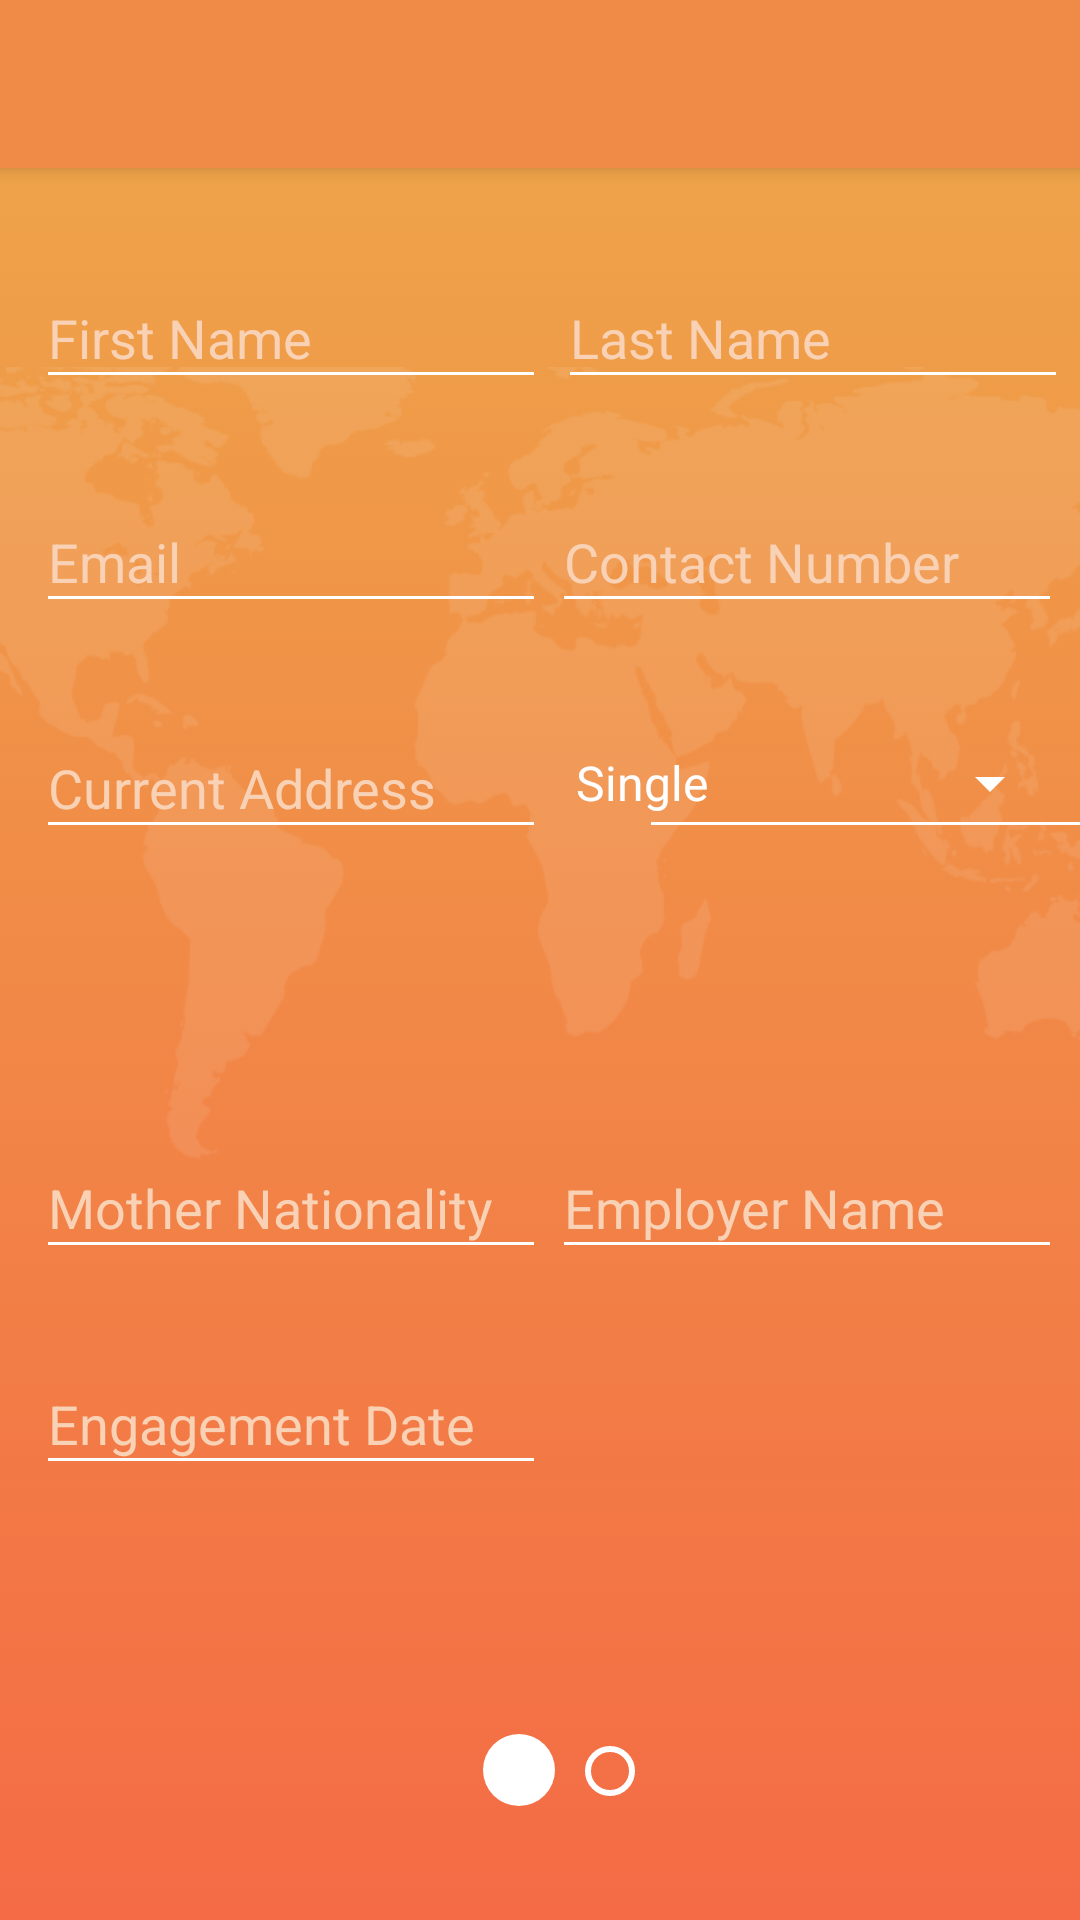

Where to tap for icons on this 1080 x 1920 app screen, as (x,y):
circle: (610,1771)
